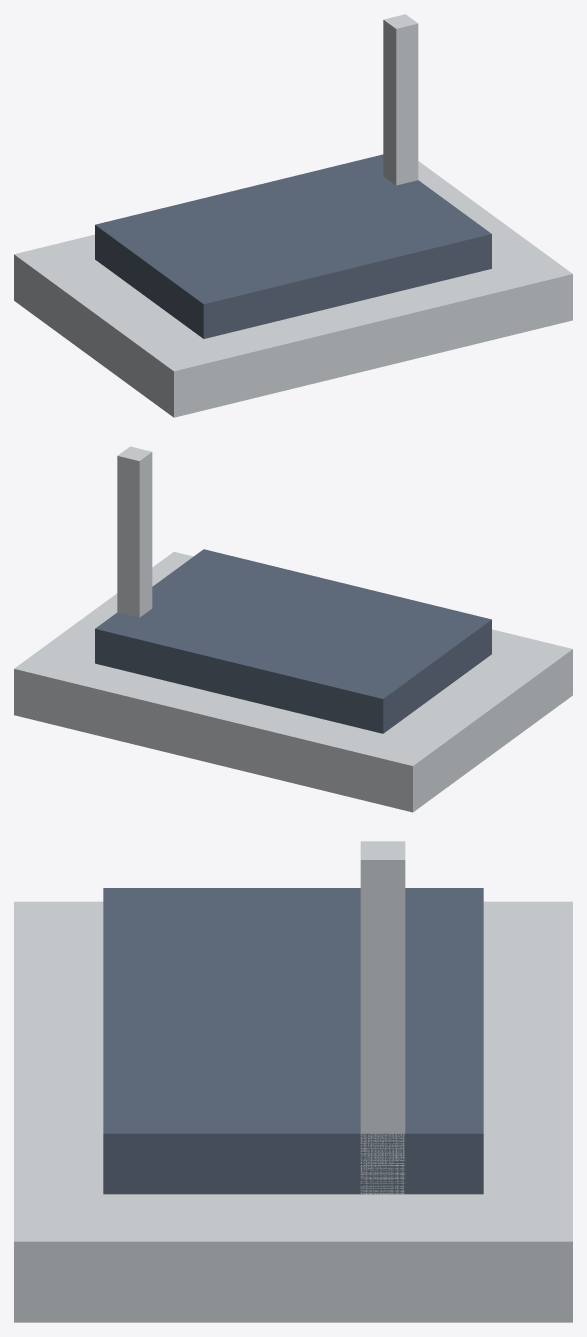
Rendered from sink-steel-premium.gltf.
The picture shows the model from 3 angles, top to bottom: view 1: azimuth 30°, elevation 25°; view 2: azimuth 150°, elevation 25°; view 3: azimuth 270°, elevation 25°; orthographic projection. The views are drawn at different scales.
Visible parts, largest first — view 1: sink-steel-premium; view 2: sink-steel-premium; view 3: sink-steel-premium.
Part boxes in pixels (<box>): sink-steel-premium: <box>14,14,572,417</box>; sink-steel-premium: <box>14,446,572,812</box>; sink-steel-premium: <box>14,841,572,1322</box>.
Size of the model in its own units: 0.72 by 0.41 by 0.5.
